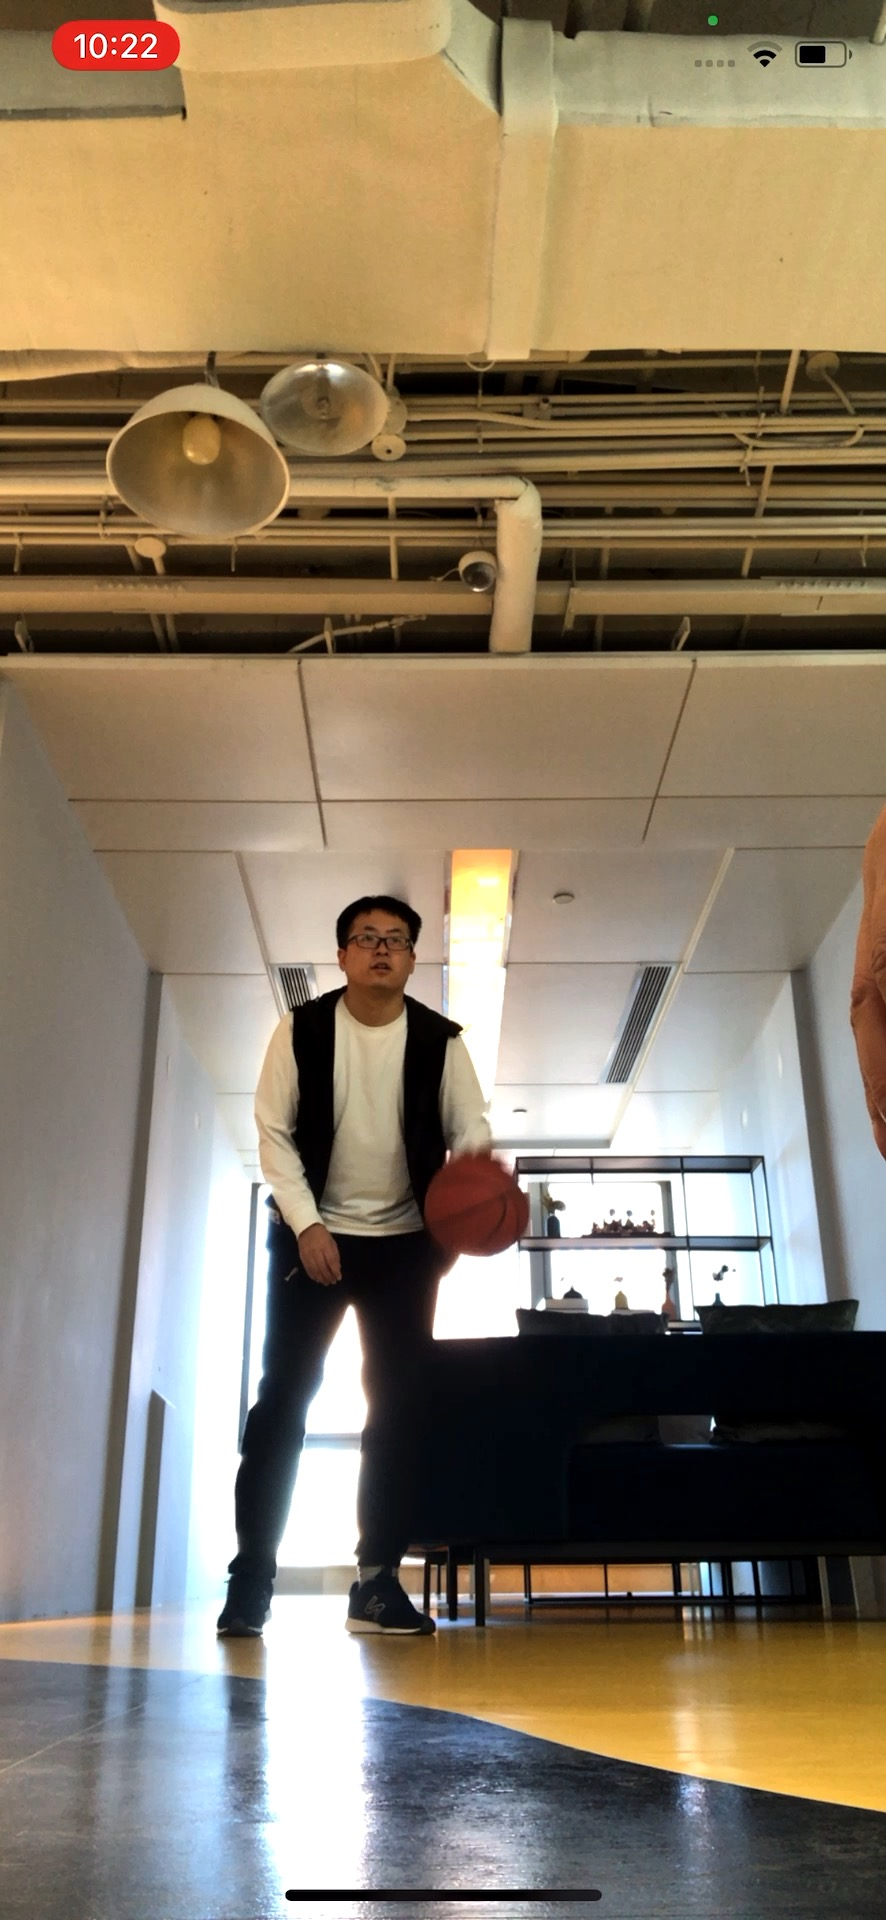ball: (423, 1155, 529, 1255)
